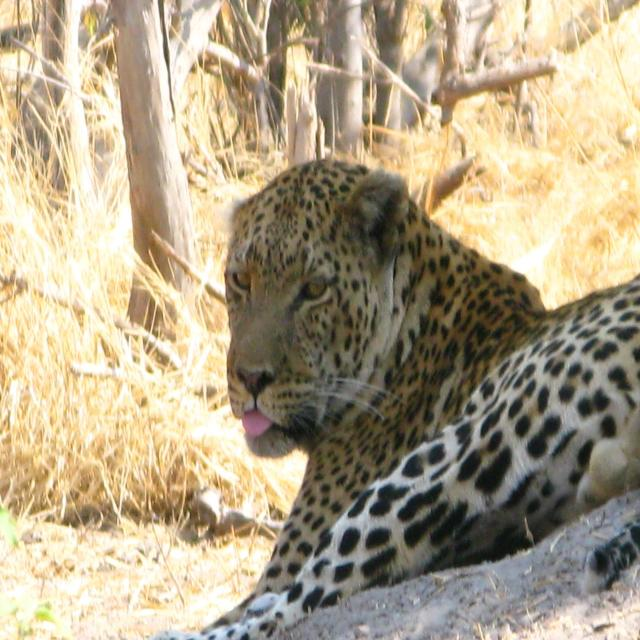Leopard: (165, 141, 638, 640)
